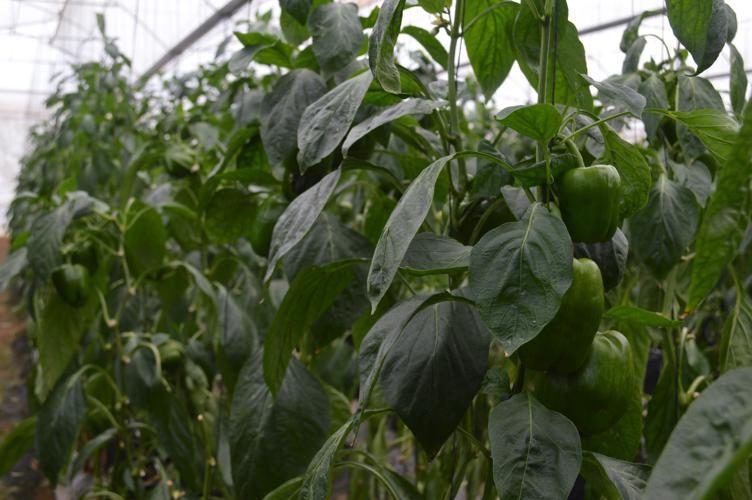BellPepper: (521, 330, 632, 437), (512, 255, 604, 372), (560, 166, 622, 246)
